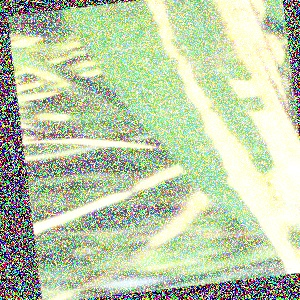Leaf_Blast: (155, 0, 293, 228)
